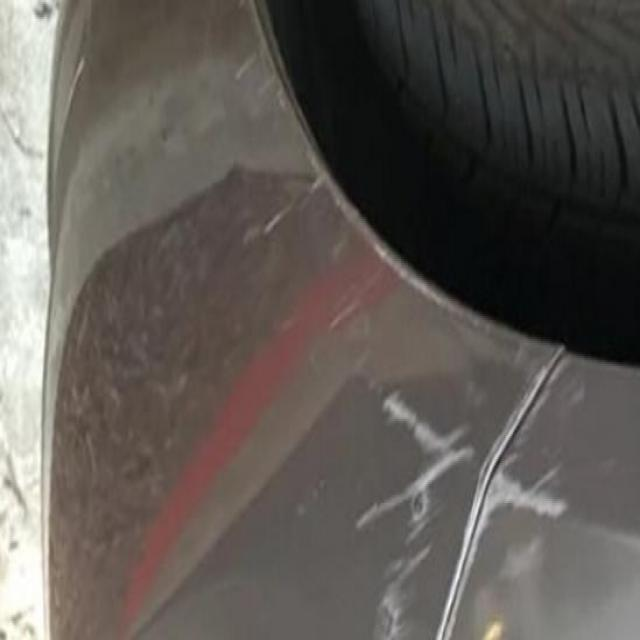scratch: (325, 373, 570, 640)
